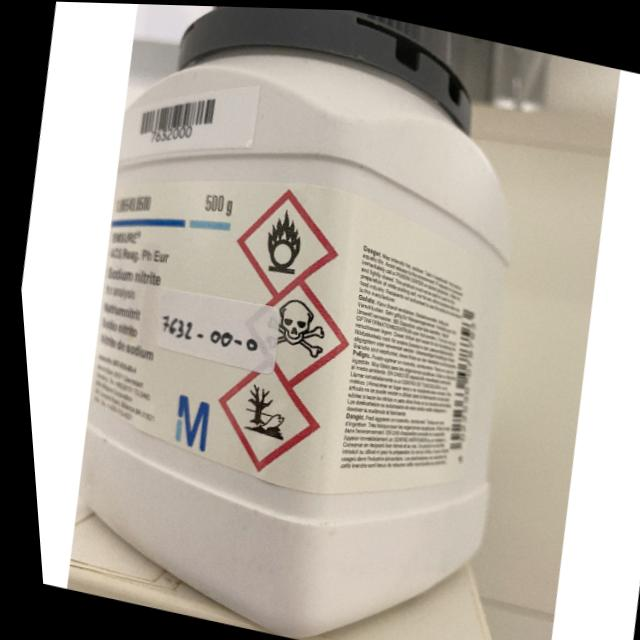acute toxicity: (226, 264, 359, 397)
hazardous to the environment: (197, 346, 328, 483)
oxidising: (218, 176, 349, 310)
